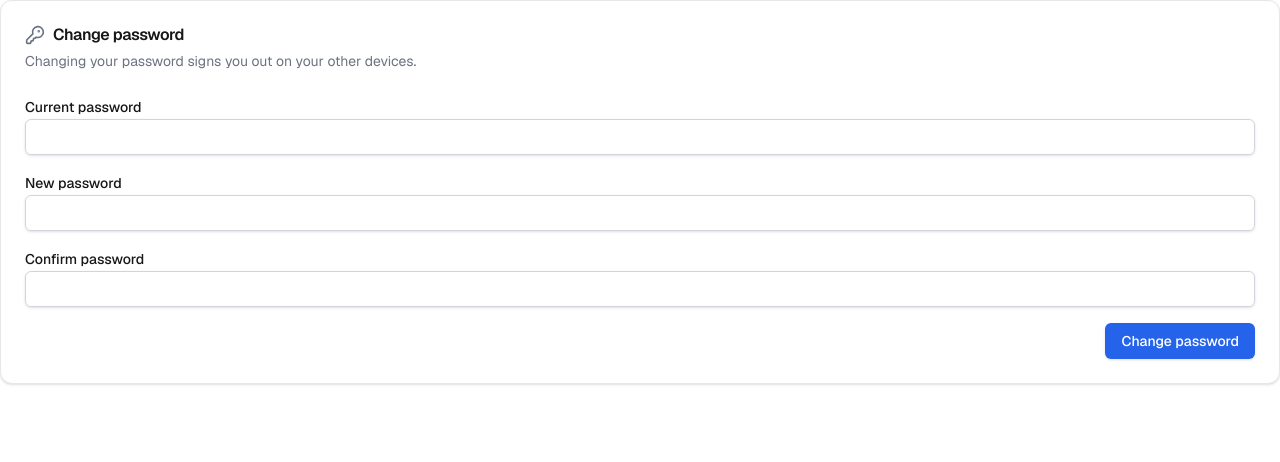
Test: ChangePasswordCard › shows the server error
Type "wrong-password" into the password field labelled "Current password". click: (640, 137)
box: [25,119,1255,155]
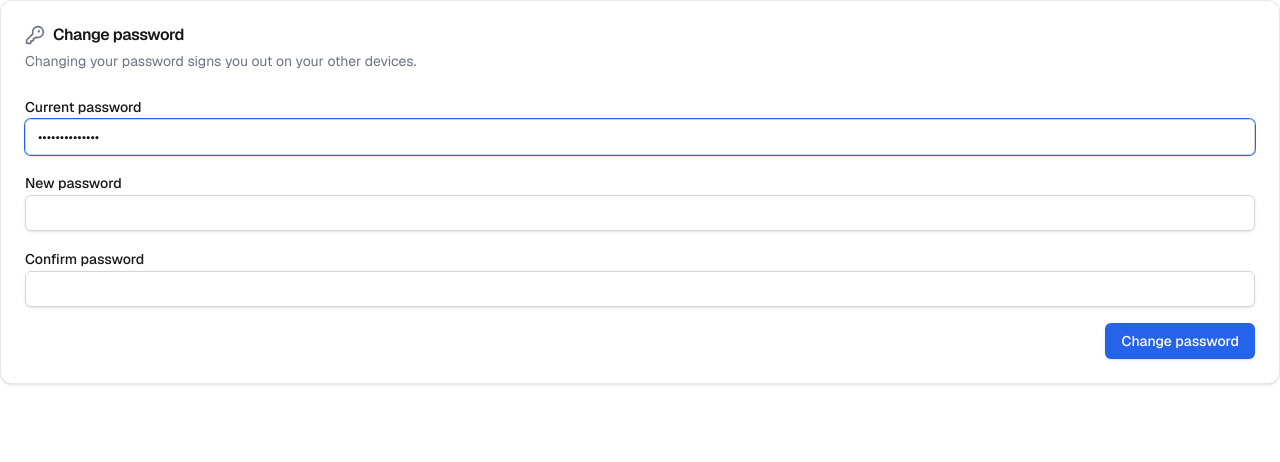
Type "new-password" into the password field labelled "New password". click: (640, 213)
box: [25,195,1255,231]
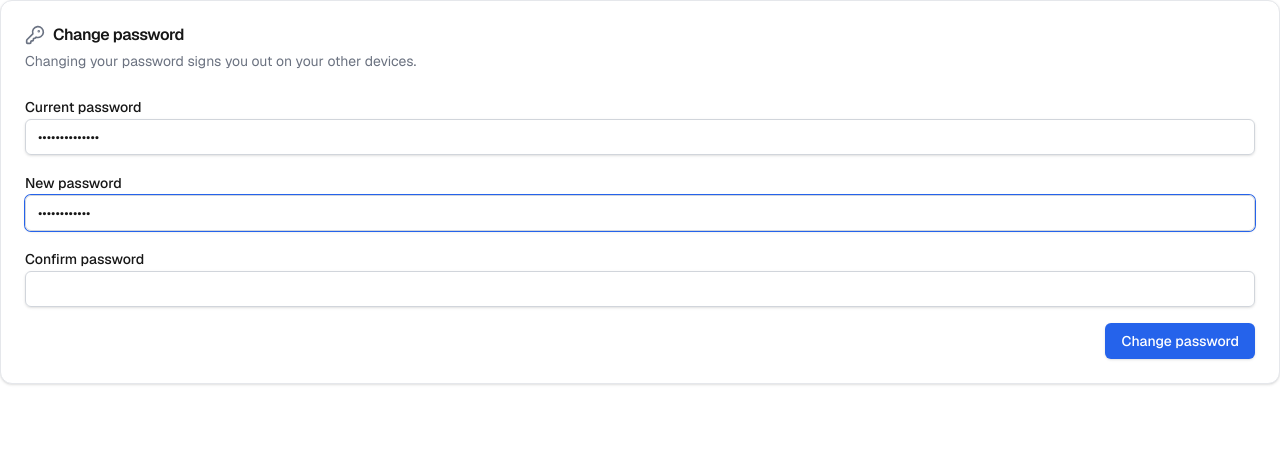
Type "new-password" into the password field labelled "Confirm password". click: (640, 289)
box: [25,271,1255,307]
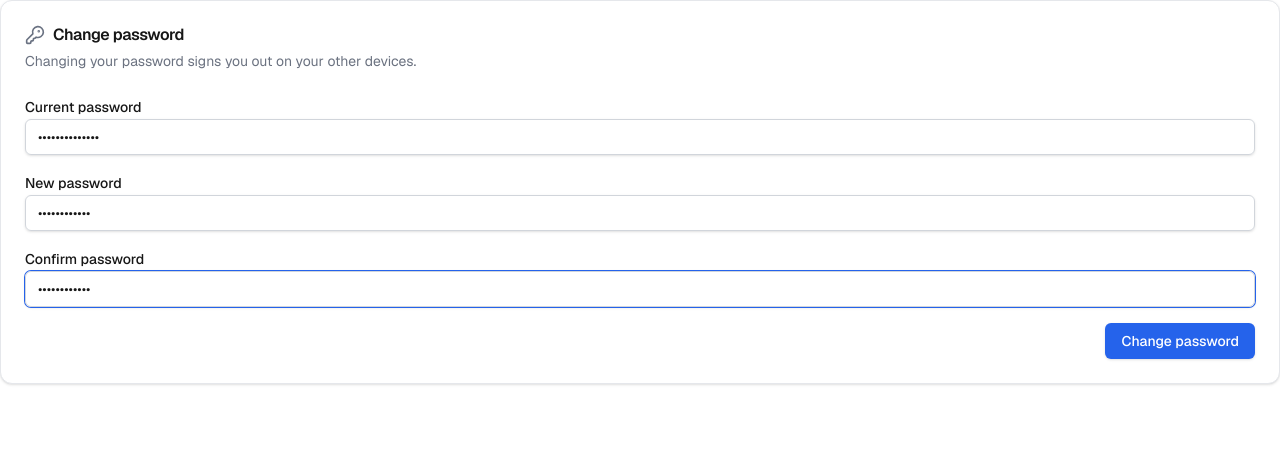
Click the button "Change password". click: (1180, 341)
box: [1106,323,1255,359]
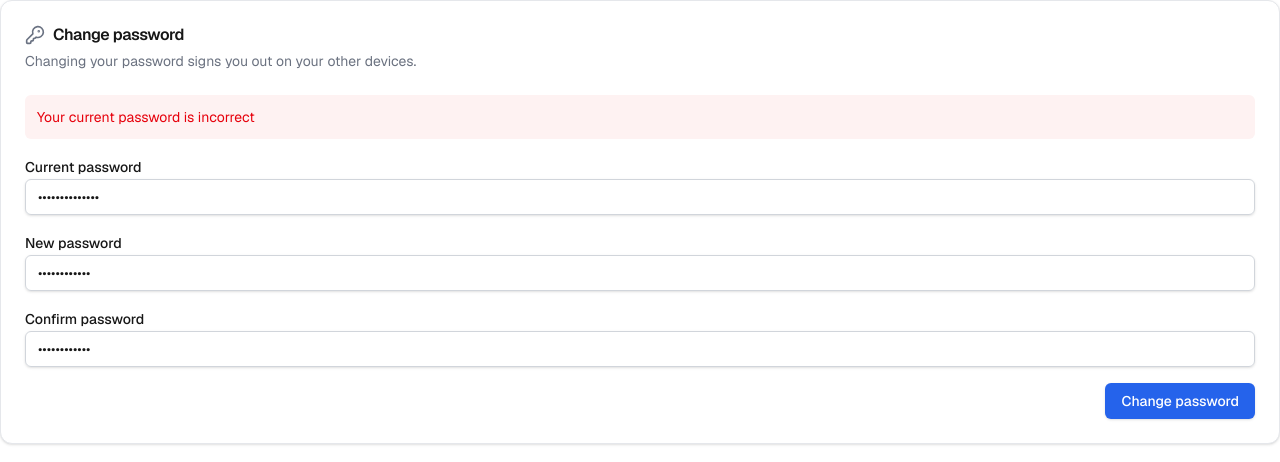
Check: the text "Your current password is incorrect" is shown, box [25,95,1255,139]
